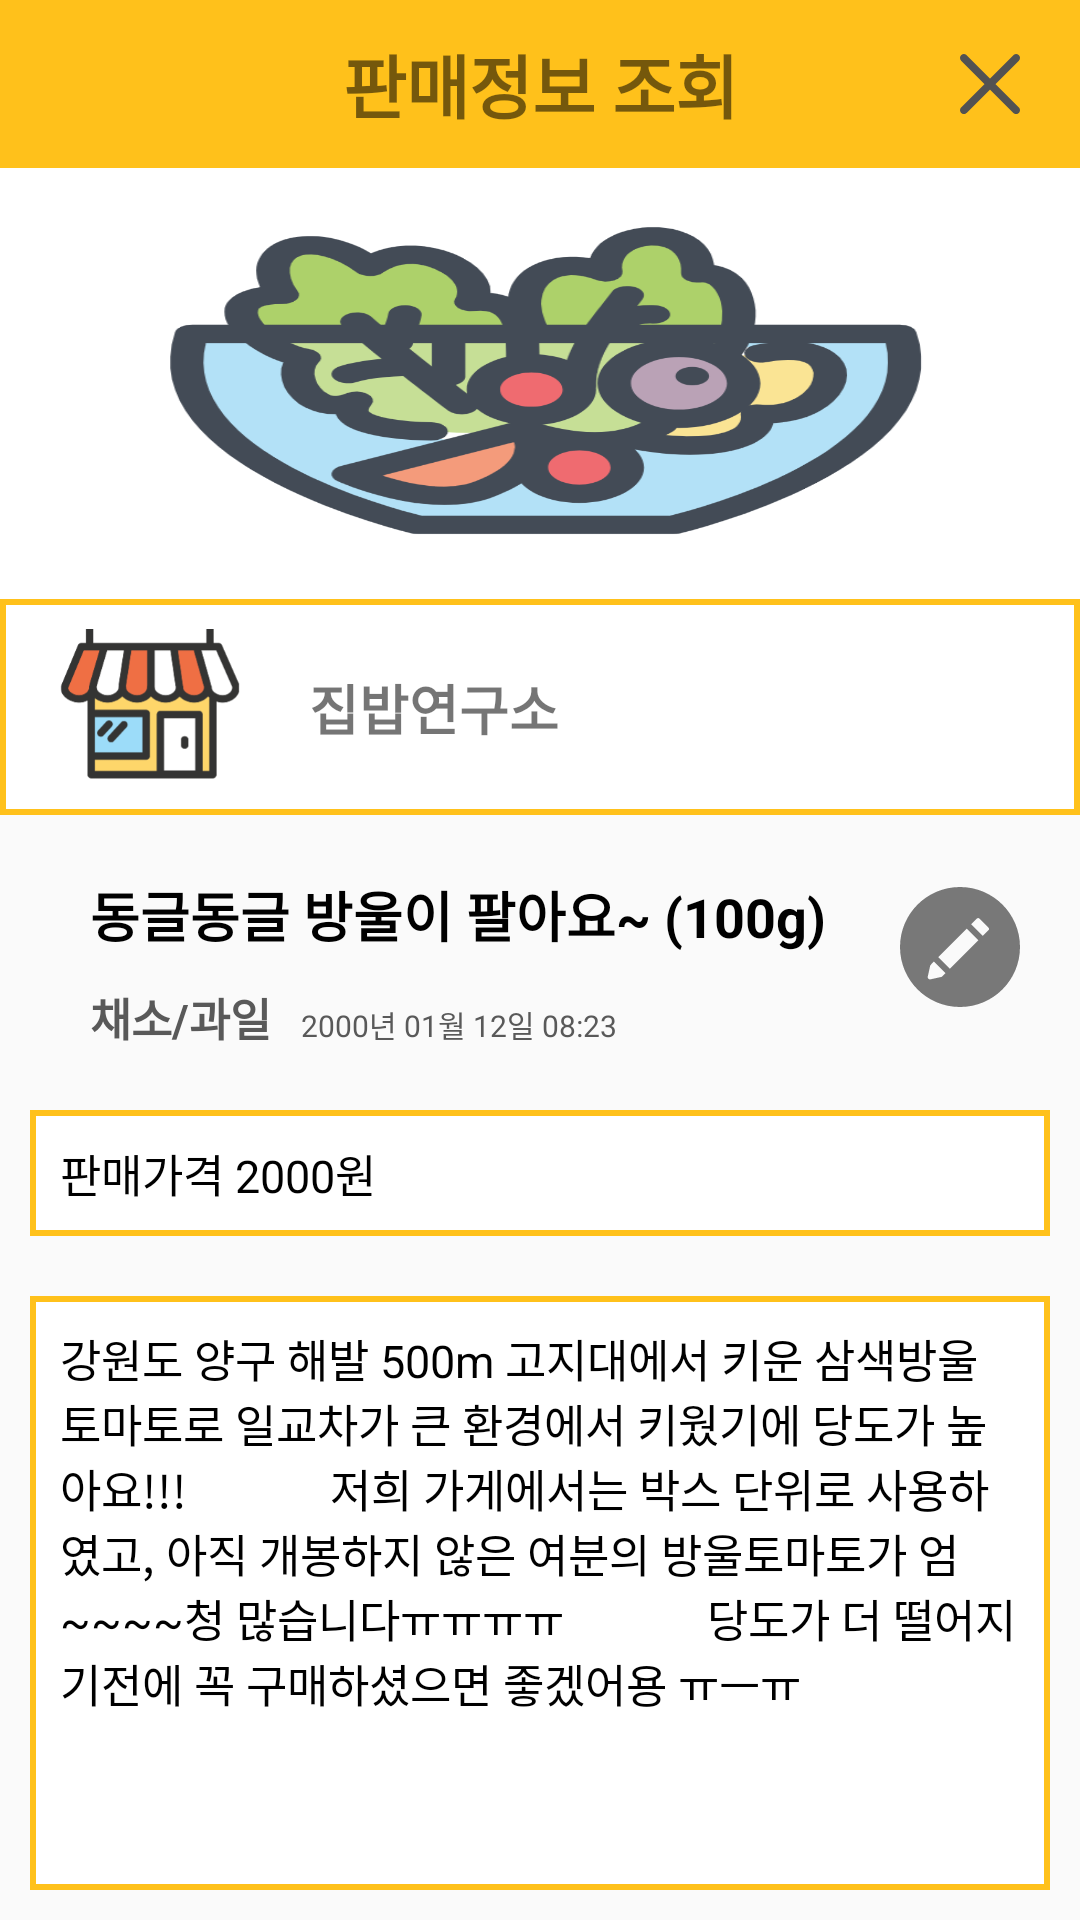

Icons on this 1080*1920 Android screen, each with the point to tap as (x=x, y=y):
close: (x=990, y=84)
pencil: (x=960, y=947)
store: (x=150, y=704)
